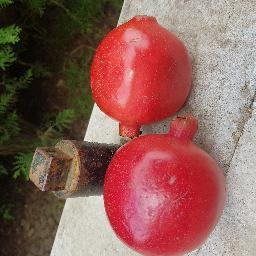Good_pomegranate: (104, 121, 232, 253), (83, 10, 195, 132)
